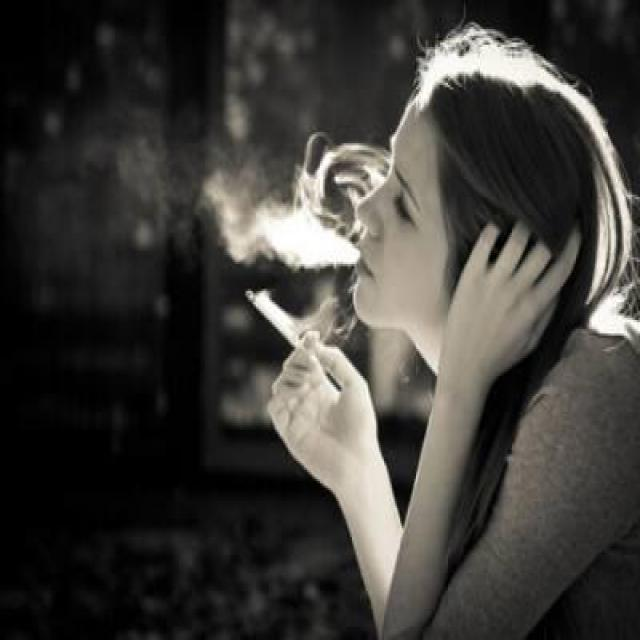cigarette: (237, 264, 336, 374)
